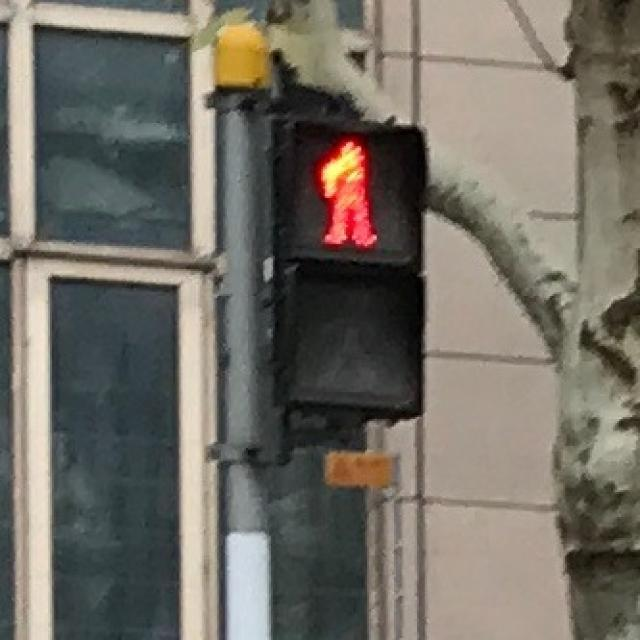red_light: (280, 112, 406, 260)
